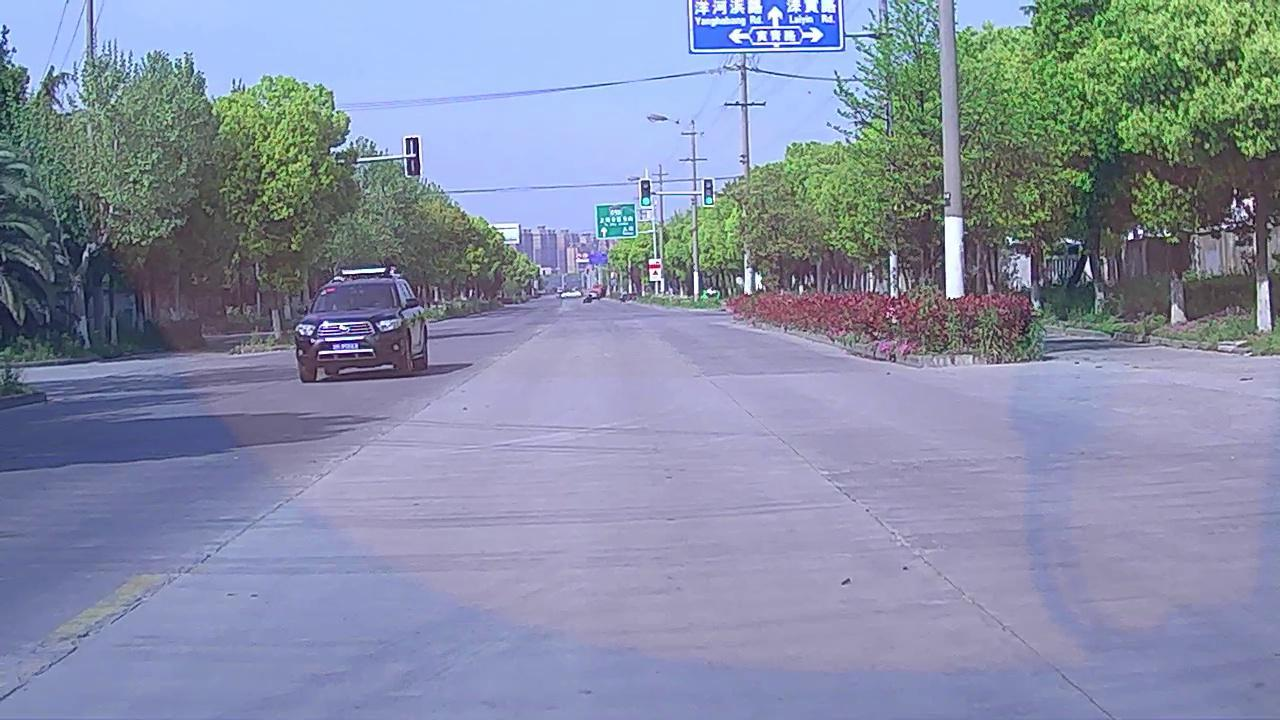traffic_light: (641, 179, 651, 207), (704, 179, 713, 205)
